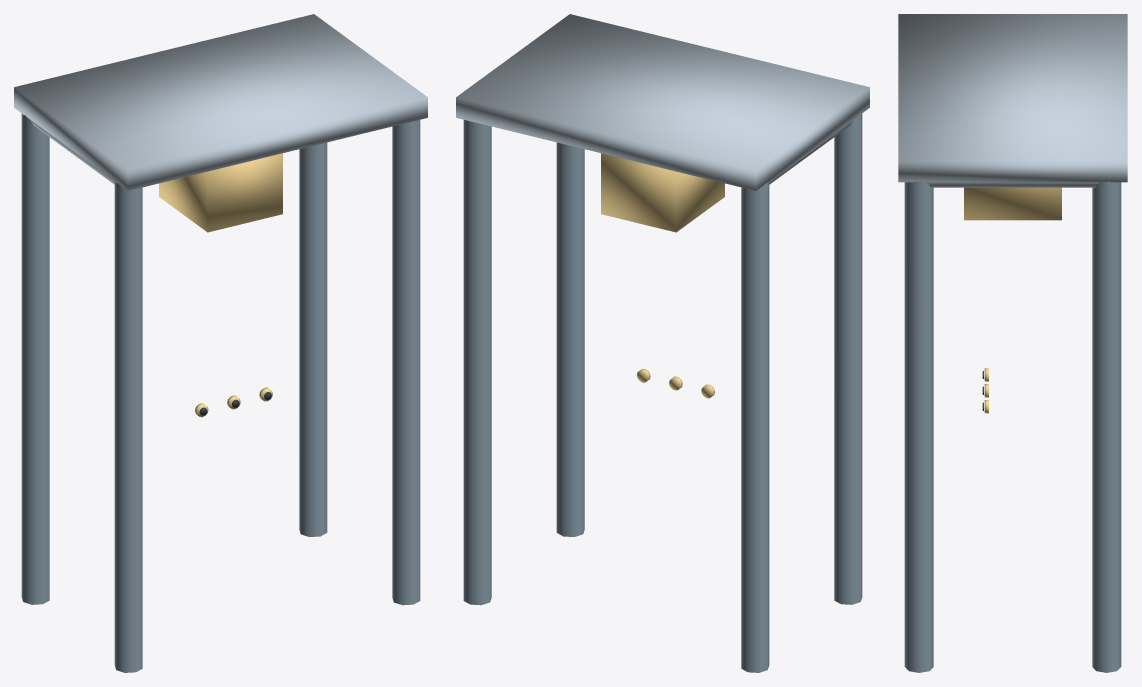
Rendered from 06_L92_ExteriorLanderDeploymentBay.glb.
3 renders of one model, left to right at view 1: azimuth 30°, elevation 25°; view 2: azimuth 150°, elevation 25°; view 3: azimuth 270°, elevation 25°, orthographic.
Parts seen in each view (by area): view 1: L92_ExteriorLanderDeploymentB_Part_0000, L92_ExteriorLanderDeploymentB_Part_0002, L92_ExteriorLanderDeploymentB_Part_0003; view 2: L92_ExteriorLanderDeploymentB_Part_0000, L92_ExteriorLanderDeploymentB_Part_0002, L92_ExteriorLanderDeploymentB_Part_0003; view 3: L92_ExteriorLanderDeploymentB_Part_0002, L92_ExteriorLanderDeploymentB_Part_0000, L92_ExteriorLanderDeploymentB_Part_0003, L92_ExteriorLanderDeploymentB_Part_0001.
Part boxes in pixels (x1=…): L92_ExteriorLanderDeploymentB_Part_0000: x1=21, y1=113, x2=420, y2=672; L92_ExteriorLanderDeploymentB_Part_0002: x1=14, y1=14, x2=427, y2=190; L92_ExteriorLanderDeploymentB_Part_0003: x1=159, y1=153, x2=282, y2=232; L92_ExteriorLanderDeploymentB_Part_0000: x1=463, y1=113, x2=862, y2=672; L92_ExteriorLanderDeploymentB_Part_0002: x1=456, y1=14, x2=869, y2=190; L92_ExteriorLanderDeploymentB_Part_0003: x1=601, y1=153, x2=724, y2=232; L92_ExteriorLanderDeploymentB_Part_0002: x1=898, y1=14, x2=1127, y2=182; L92_ExteriorLanderDeploymentB_Part_0000: x1=904, y1=181, x2=1121, y2=672; L92_ExteriorLanderDeploymentB_Part_0003: x1=964, y1=187, x2=1061, y2=220; L92_ExteriorLanderDeploymentB_Part_0001: x1=926, y1=182, x2=1099, y2=187.
Bounding box in the file's own units: 3.38 × 5.41 × 2.2.
